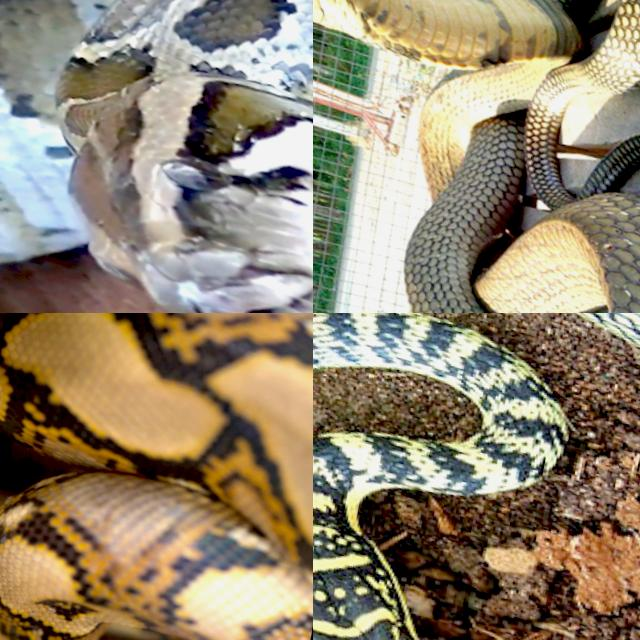Chrysopelea ornata: (313, 313, 565, 639)
Malayopython reticulatus: (0, 313, 312, 639)
Ophiophagus hannah: (313, 0, 639, 312)
Python bivittatus: (0, 0, 312, 312)
